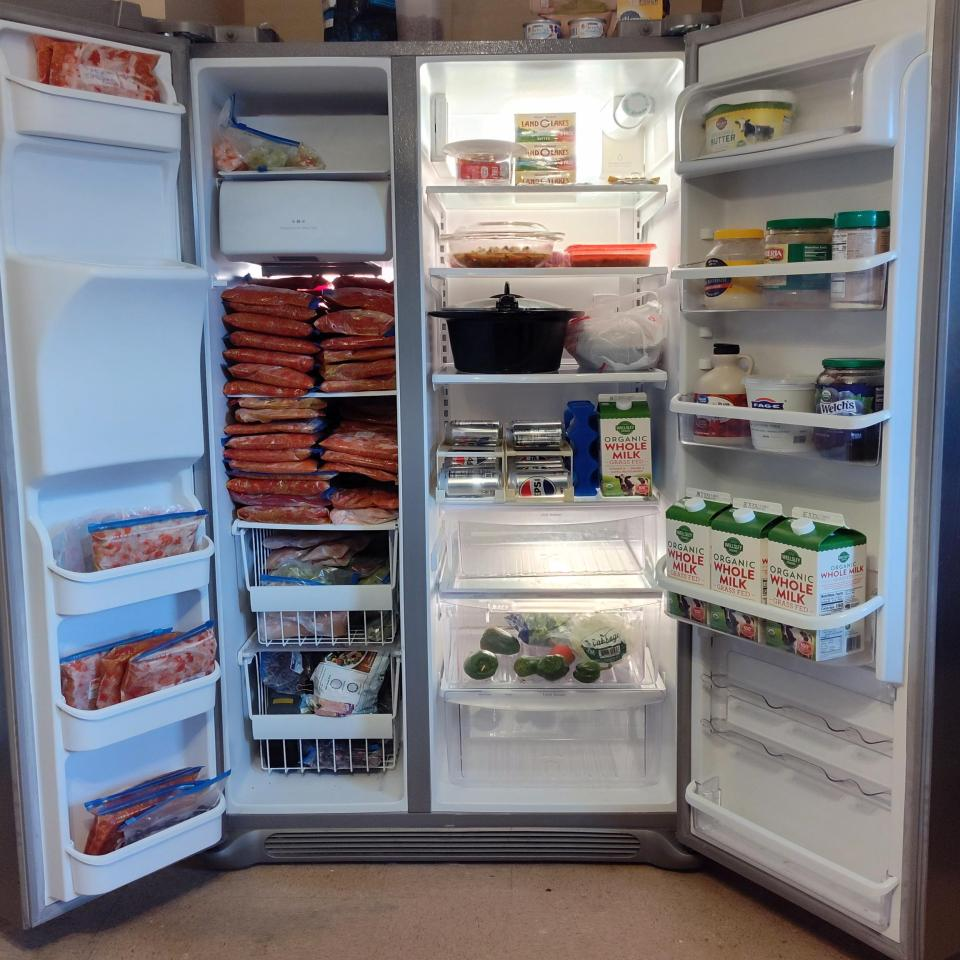Leche: (766, 506, 868, 661), (711, 497, 789, 644), (665, 488, 733, 626), (597, 393, 652, 497)
Mantequilla: (701, 90, 798, 156), (515, 170, 577, 203), (514, 112, 576, 142), (514, 143, 576, 171)
Yogur: (742, 373, 818, 453)
